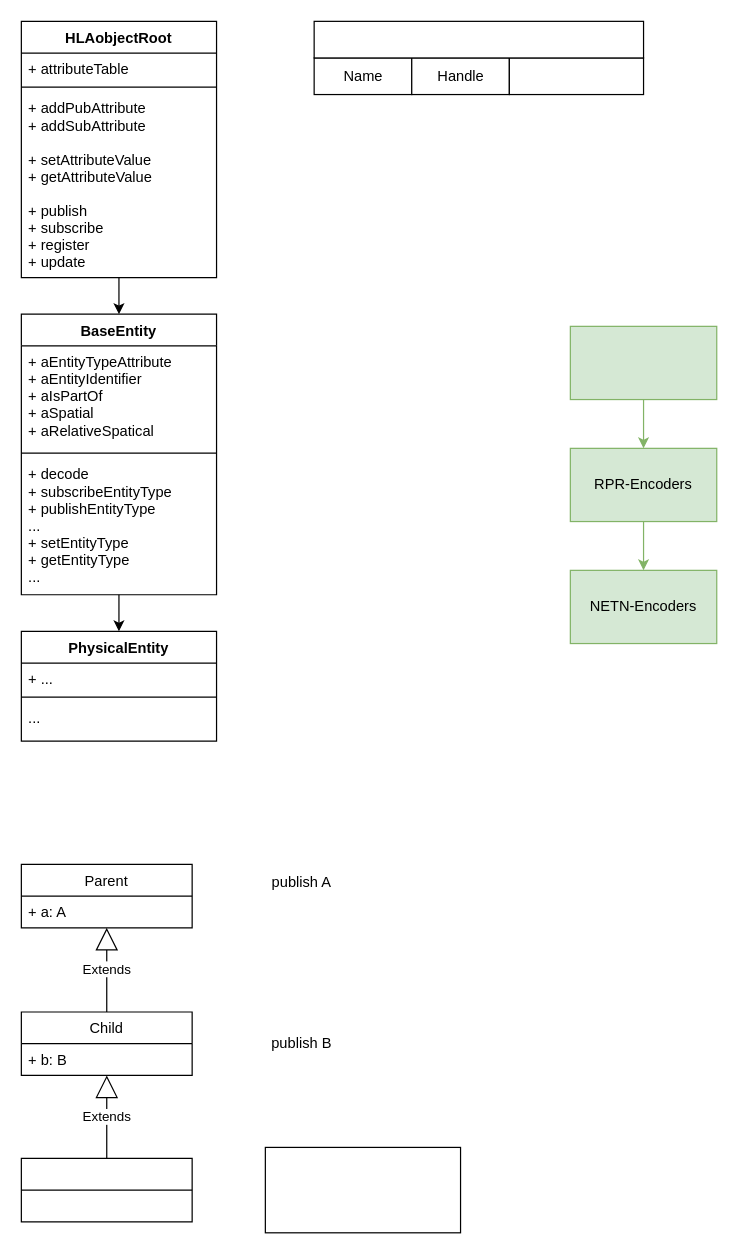
Some shapes in this 738 by 1254 pixel diagram are drawn without their labels. The shapes that lost their labels are listed below. From the top down, each one's centre as x and y in pixels, then its label:
the point at 478,39: AttributeTable
the point at 576,76: ByteWrapper
the point at 643,362: MSG-EncodingHelper
the point at 106,1189: GrandChild
the point at 362,1189: gc:GrandChild a = value1 b = value2
